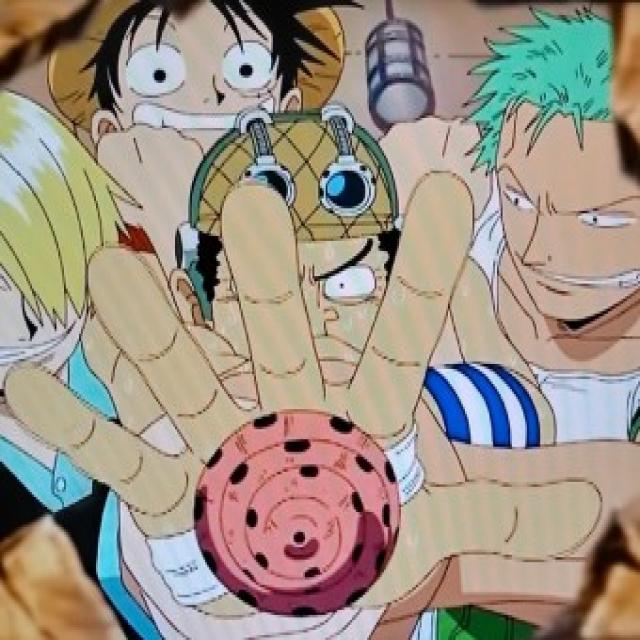Luffy: (38, 0, 360, 156)
Sangdi: (0, 79, 118, 416)
Usopp: (170, 110, 417, 408)
Zoro: (461, 5, 640, 332)
